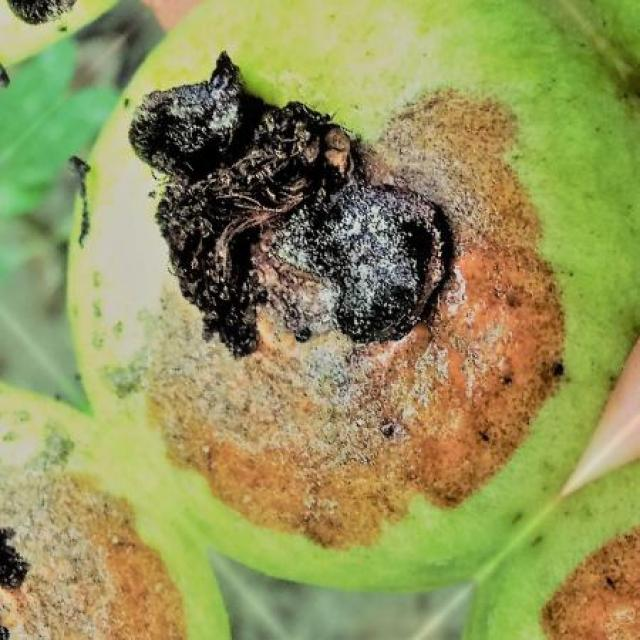Styler and Root: (0, 0, 640, 640)
